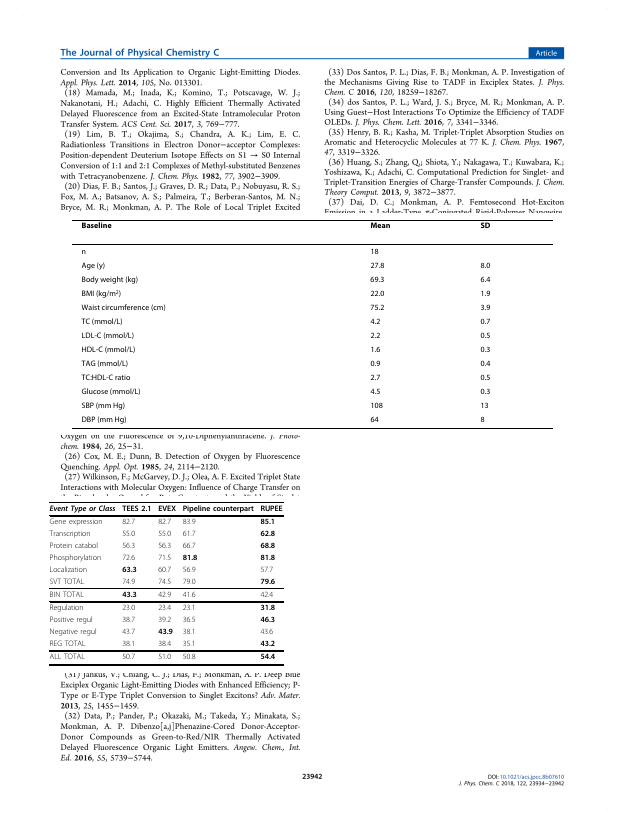borderless: (71, 218, 553, 428), (48, 501, 283, 664)
cell: (81, 303, 167, 313), (182, 505, 255, 514), (81, 387, 142, 397), (49, 505, 116, 514), (81, 275, 139, 285), (81, 345, 136, 355), (49, 518, 103, 528), (81, 331, 135, 341), (49, 554, 102, 564), (49, 542, 99, 552), (81, 373, 131, 383), (49, 628, 98, 638), (81, 359, 129, 369), (81, 415, 127, 425), (49, 616, 94, 626), (81, 401, 126, 411), (49, 530, 91, 540), (81, 317, 123, 327), (81, 289, 122, 299), (49, 566, 88, 576), (49, 640, 86, 650), (49, 591, 85, 601), (49, 604, 85, 614), (49, 654, 86, 663), (49, 578, 85, 587), (121, 505, 152, 514), (81, 221, 113, 229), (81, 261, 106, 271), (259, 505, 284, 514), (157, 505, 177, 514), (369, 221, 391, 229), (259, 604, 276, 614), (259, 616, 276, 626), (157, 628, 174, 638), (259, 640, 276, 650), (369, 261, 385, 271), (369, 275, 385, 285), (369, 289, 385, 299), (369, 303, 385, 313), (259, 518, 276, 527), (259, 530, 276, 539), (259, 542, 276, 551), (259, 554, 276, 563), (121, 566, 138, 575), (259, 578, 276, 587), (121, 591, 138, 600), (259, 654, 276, 663), (121, 518, 136, 528), (157, 518, 172, 528), (121, 530, 136, 540), (157, 530, 172, 540), (121, 542, 136, 552), (157, 542, 172, 552), (121, 554, 136, 564), (157, 554, 172, 564), (157, 566, 172, 576), (259, 566, 274, 576), (157, 591, 172, 601), (259, 591, 274, 601), (121, 604, 136, 614), (157, 604, 172, 614), (121, 616, 136, 626), (157, 616, 172, 626), (121, 628, 136, 638), (259, 628, 274, 638), (121, 640, 136, 650), (157, 640, 172, 650), (369, 401, 384, 411), (182, 554, 198, 563), (182, 518, 196, 528), (182, 530, 196, 540), (182, 542, 196, 552), (182, 566, 196, 576), (182, 591, 196, 601), (182, 604, 196, 614), (182, 616, 196, 626), (182, 628, 196, 638), (182, 640, 196, 650), (121, 578, 136, 587), (157, 578, 172, 587), (121, 654, 136, 663), (157, 654, 172, 663), (182, 578, 196, 587), (182, 654, 196, 663), (479, 261, 491, 271), (479, 275, 491, 285), (479, 289, 491, 299), (479, 303, 491, 313), (369, 317, 381, 327), (479, 317, 491, 327), (369, 331, 381, 341), (479, 331, 491, 341), (369, 345, 381, 355), (479, 345, 491, 355), (369, 359, 381, 369), (479, 359, 491, 369), (369, 373, 381, 383), (479, 373, 491, 383), (369, 387, 381, 397), (369, 247, 380, 257), (480, 387, 491, 397), (479, 401, 490, 411), (369, 415, 380, 425), (479, 221, 491, 229), (479, 415, 486, 425), (81, 247, 87, 257)
